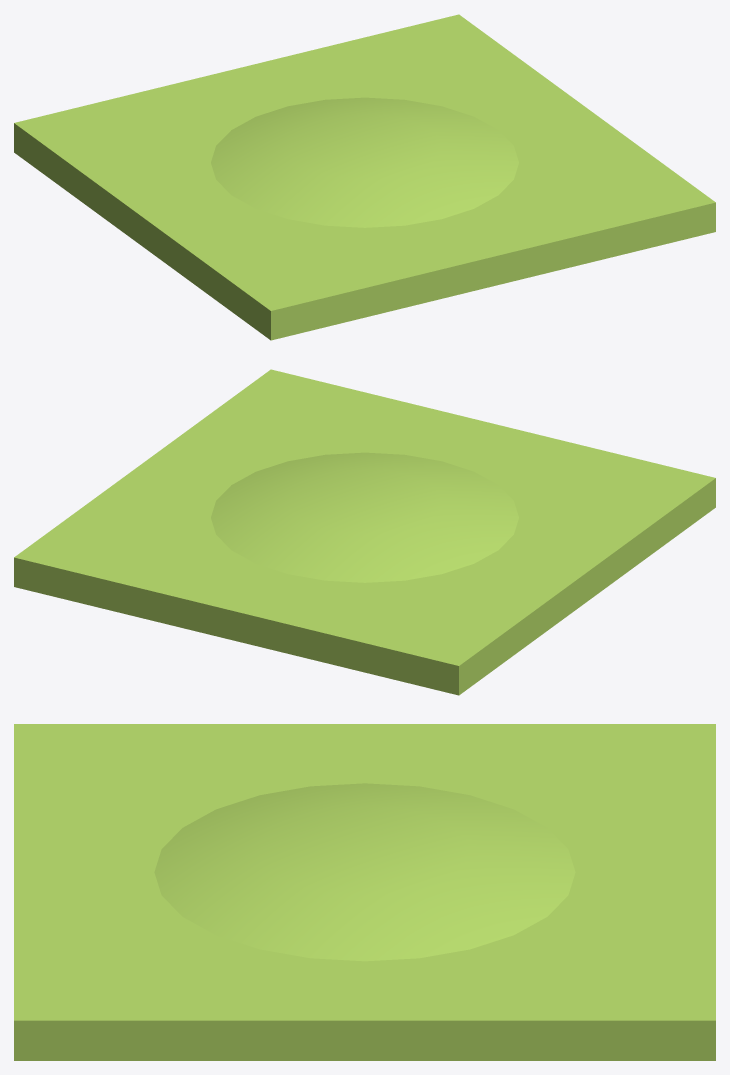
Rendered from bump.fbx.
3 renders of one model, top to bottom at view 1: azimuth 30°, elevation 25°; view 2: azimuth 150°, elevation 25°; view 3: azimuth 270°, elevation 25°, orthographic. The views are drawn at different scales.
Parts seen in each view (by area): view 1: bump; view 2: bump; view 3: bump.
Boxes of the visible parts, <box> form: bump: <box>14,14,715,340</box>; bump: <box>14,369,715,695</box>; bump: <box>14,724,715,1060</box>.
Size of the model in its own units: 10 by 0.9666 by 10.
